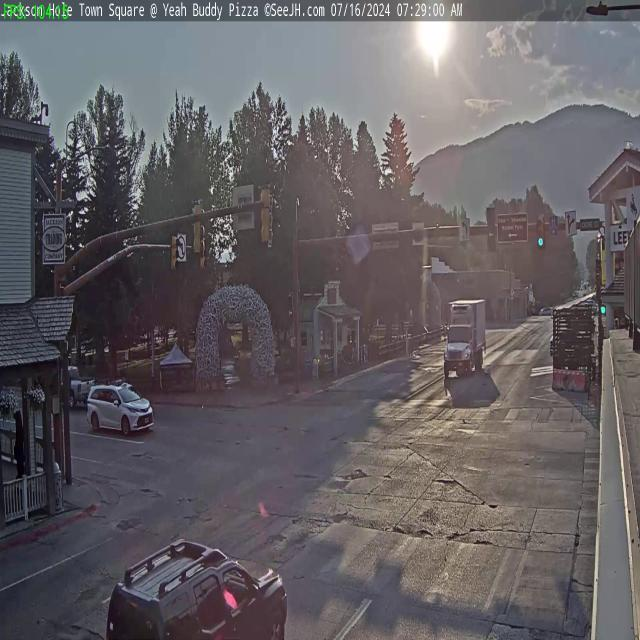pickup: (56, 362, 96, 406)
suv: (105, 530, 289, 640), (88, 380, 154, 438)
traffic light: (190, 199, 203, 257), (260, 185, 272, 245), (487, 207, 498, 252), (170, 230, 178, 274), (536, 214, 546, 248)
truck: (444, 296, 485, 374)
